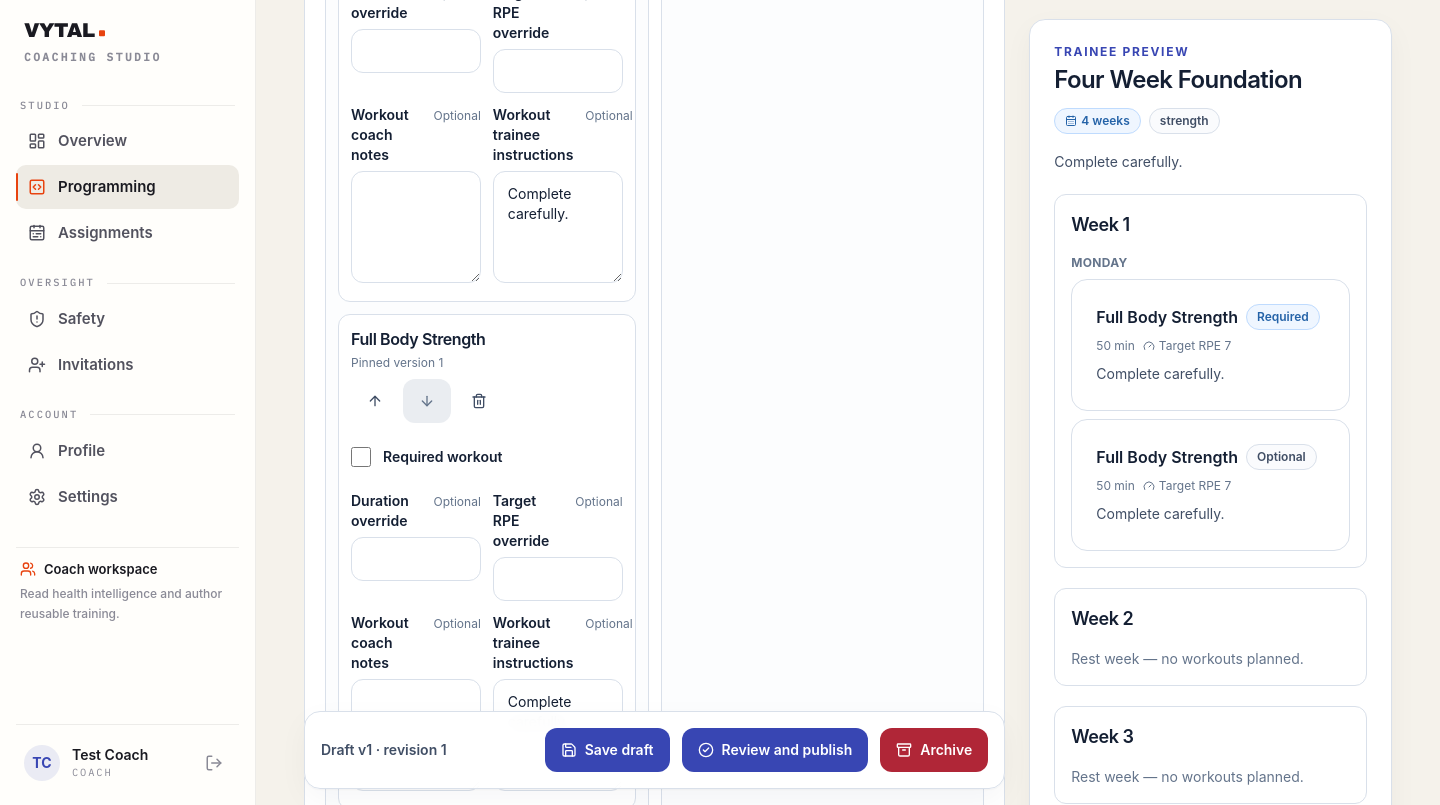
Program builder › provides required toggles and keyboard session ordering controls
(page scrolled)
Expected: the checkbox labelled "Required workout" is not checked, x1=351 y1=447 x2=371 y2=467
Click the button named "Move Full Body Strength up": (375, 401) x1=351 y1=379 x2=399 y2=423
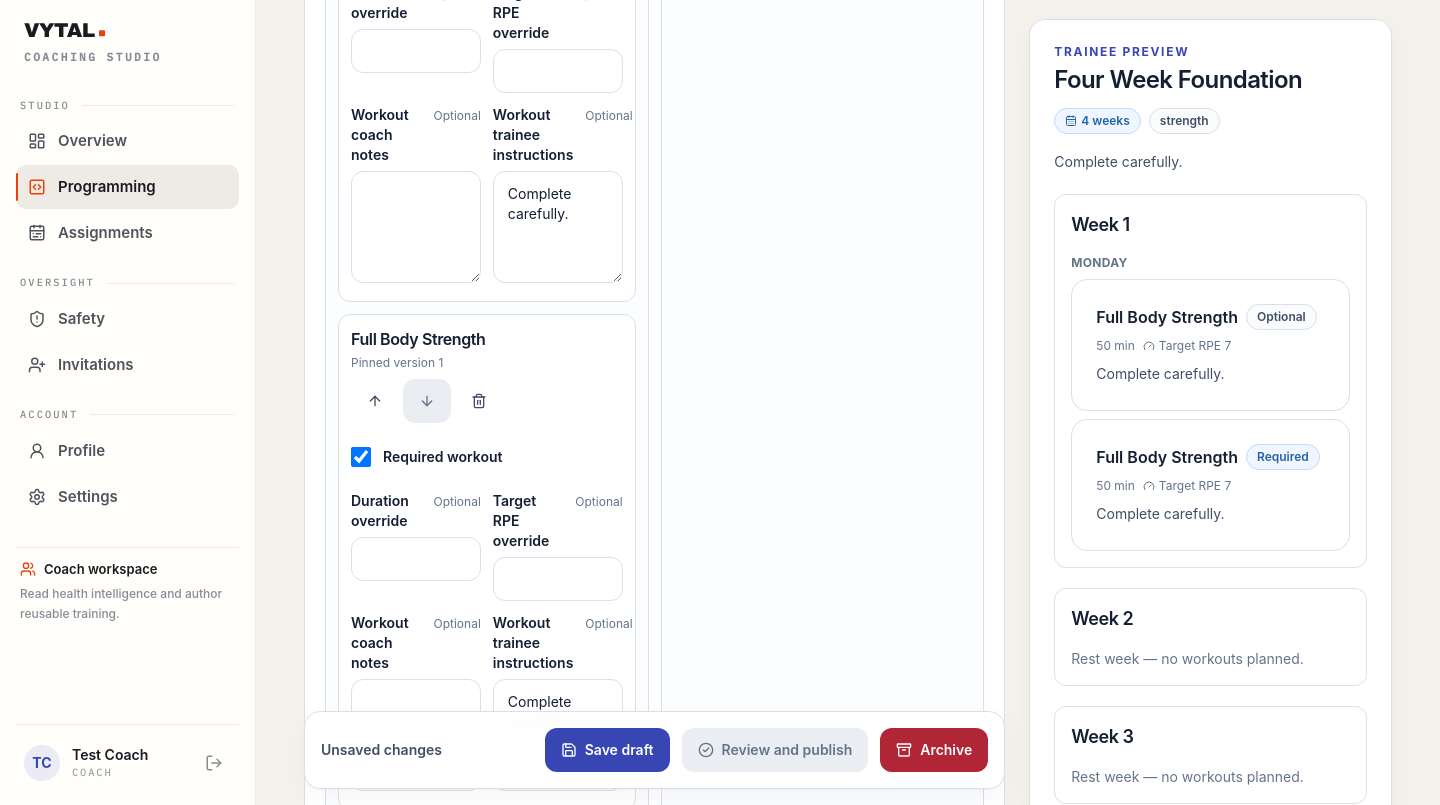
Now the text "Unsaved changes" is shown, box x1=321 y1=741 x2=442 y2=758
